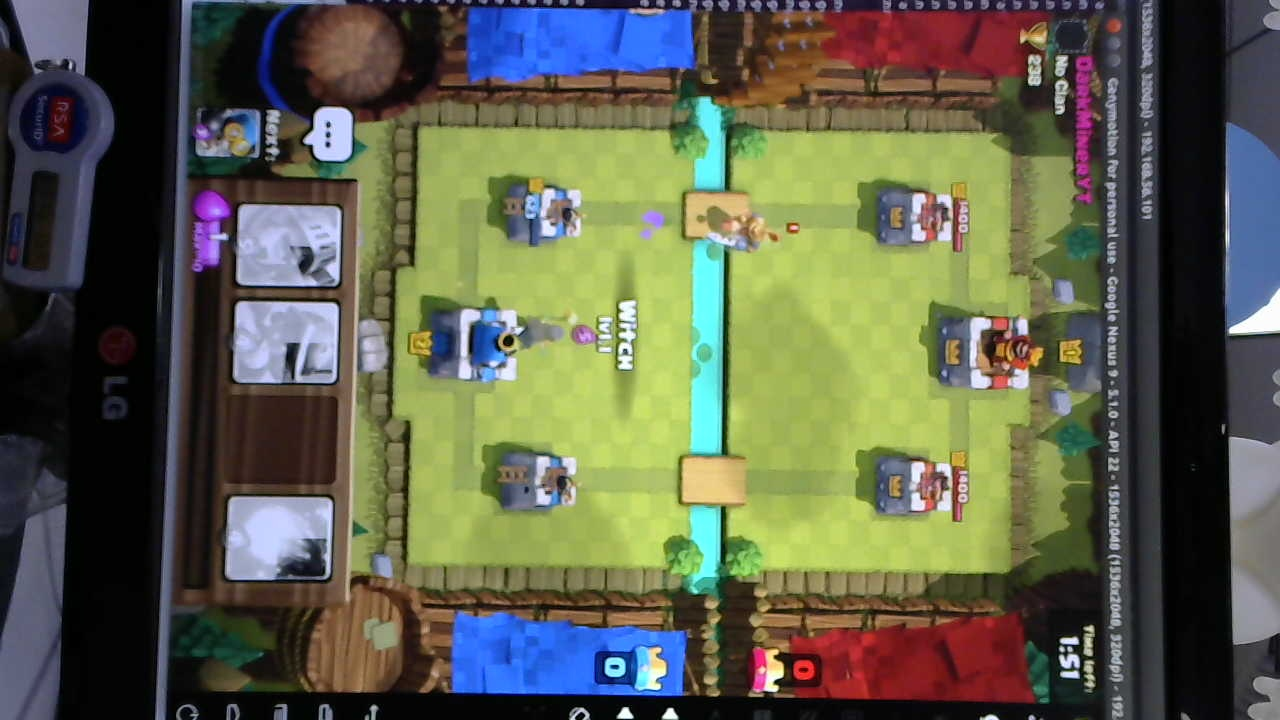arena: (493, 445, 581, 514), (501, 184, 584, 242)
earena: (872, 453, 955, 520), (873, 188, 957, 245)
eking: (932, 318, 1041, 389)
king: (428, 306, 523, 382)
prince: (709, 212, 778, 255)
